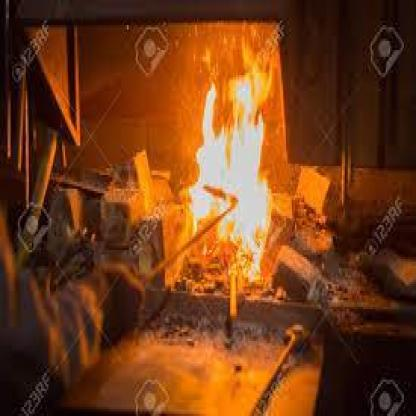Fire: (180, 19, 283, 300)
